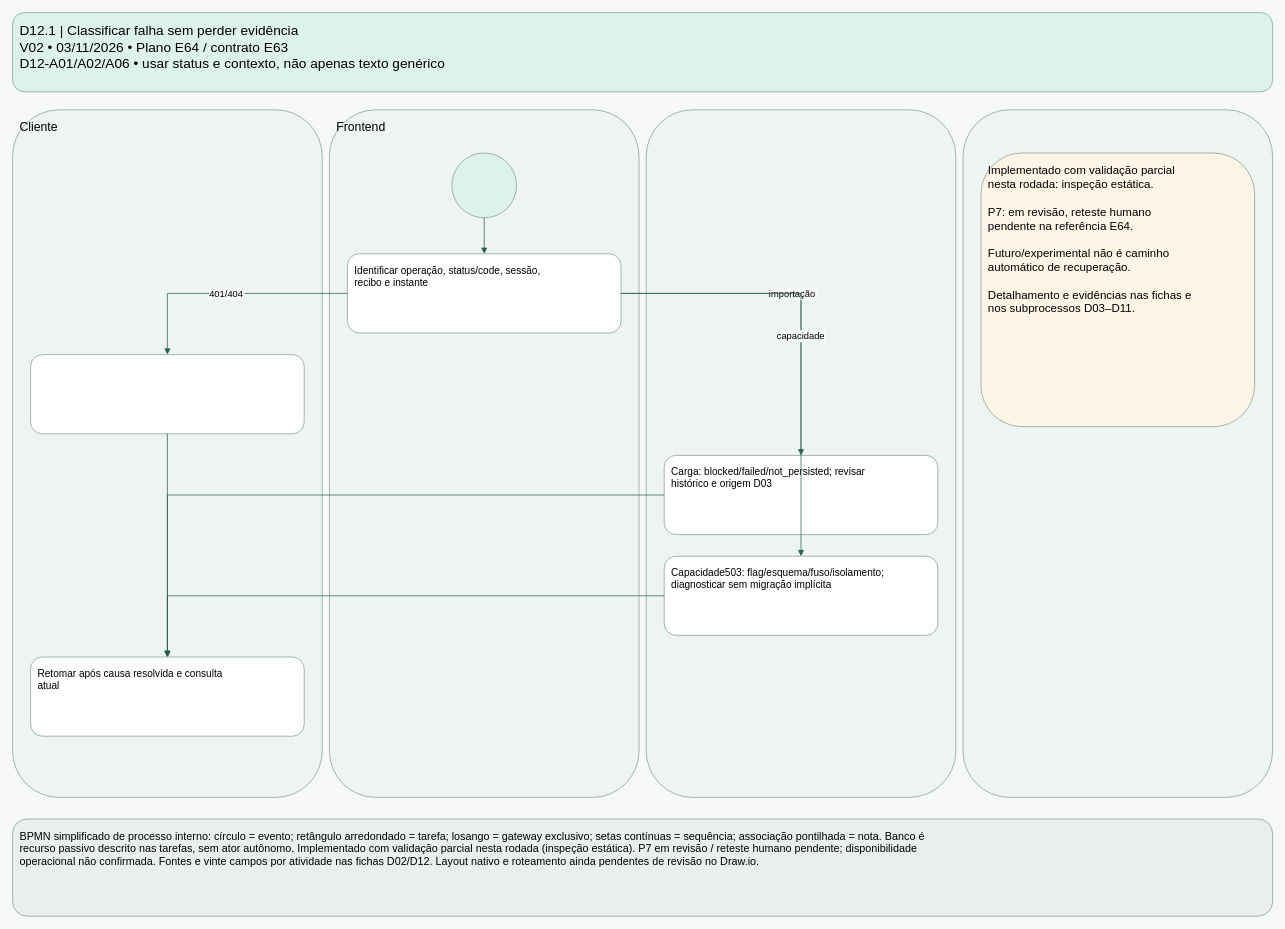
This 1285x929 diagram has some shape labels left out. Each missing label, with the box of its shape:
Backend / serviço: (645, 109, 956, 797)
Falha: (451, 152, 517, 218)
Referências e limites: (962, 109, 1273, 797)
Sessão/autorização: autenticar; não repetir escrita automaticamente: (30, 354, 304, 434)
